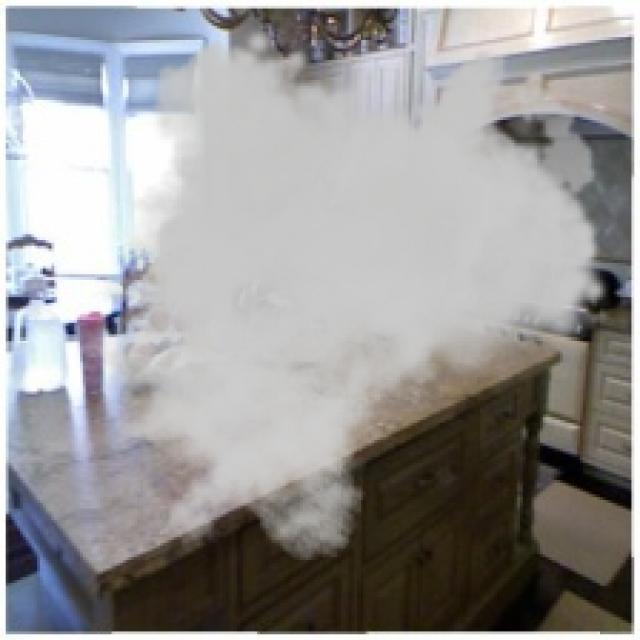Smoke: (57, 26, 612, 563)
